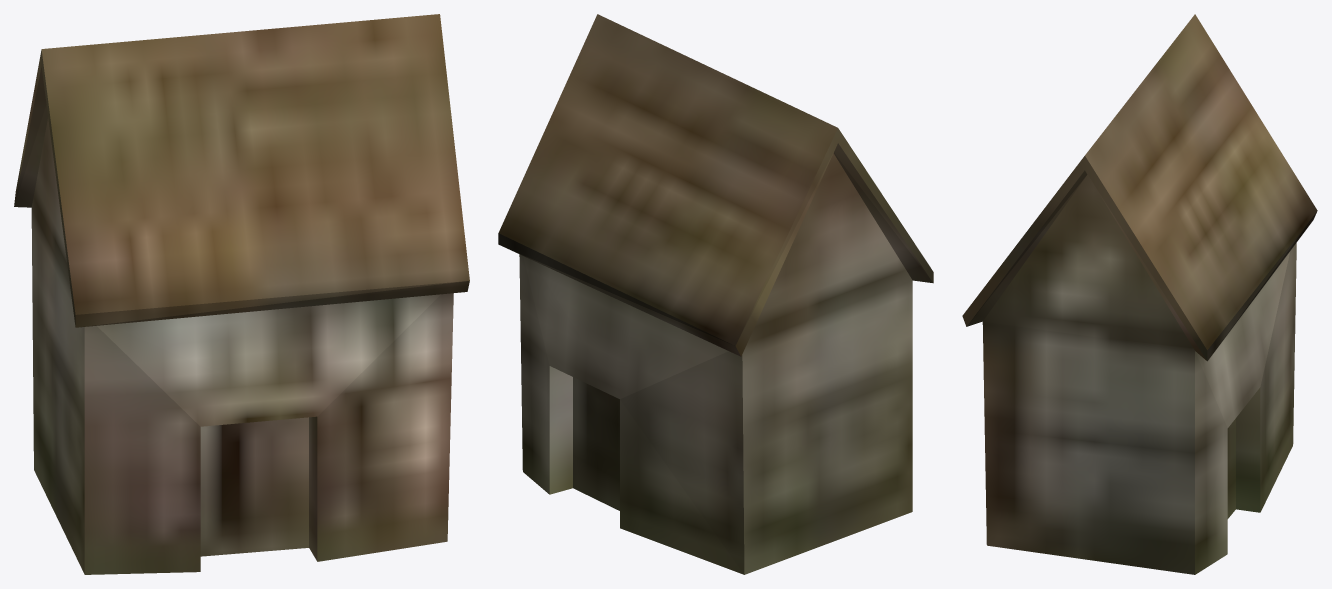
Rendered from house_07_game_lod1.glb.
3 renders of one model, left to right at view 1: azimuth 30°, elevation 25°; view 2: azimuth 150°, elevation 25°; view 3: azimuth 270°, elevation 25°, orthographic. The views are drawn at different scales.
Parts seen in each view (by area): view 1: geometry_0; view 2: geometry_0; view 3: geometry_0.
Part boxes in pixels (bbox=[...]): geometry_0: bbox=[14, 14, 469, 574]; geometry_0: bbox=[498, 14, 933, 574]; geometry_0: bbox=[962, 14, 1317, 574].
Bounding box in the file's own units: 7.4 × 8.13 × 6.37.
1 material, 1 textured.
